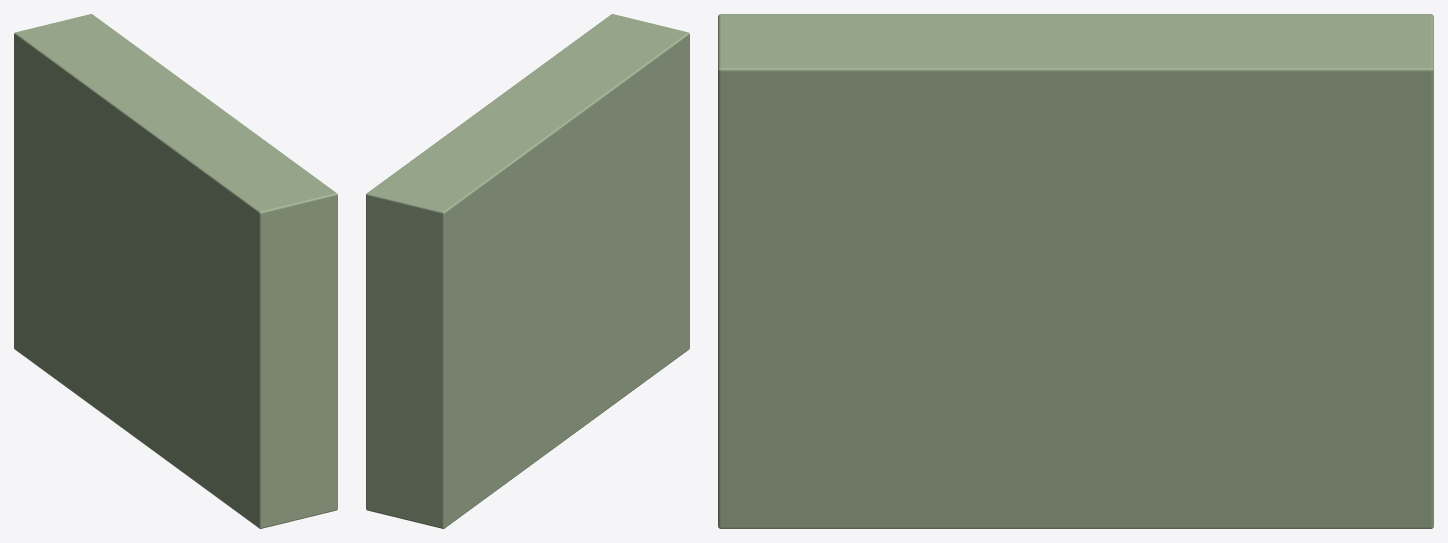
Rendered from food_processed_boxedFood_c01.glb.
3 renders of one model, left to right at view 1: azimuth 30°, elevation 25°; view 2: azimuth 150°, elevation 25°; view 3: azimuth 270°, elevation 25°, orthographic. The views are drawn at different scales.
Parts seen in each view (by area): view 1: geometry_0; view 2: geometry_0; view 3: geometry_0.
Part boxes in pixels (box(x1,y1,x2,y2)): geometry_0: box(14, 14, 337, 528); geometry_0: box(366, 14, 689, 528); geometry_0: box(718, 14, 1433, 528).
Size of the model in its own units: 0.0884 by 0.3411 by 0.48.
